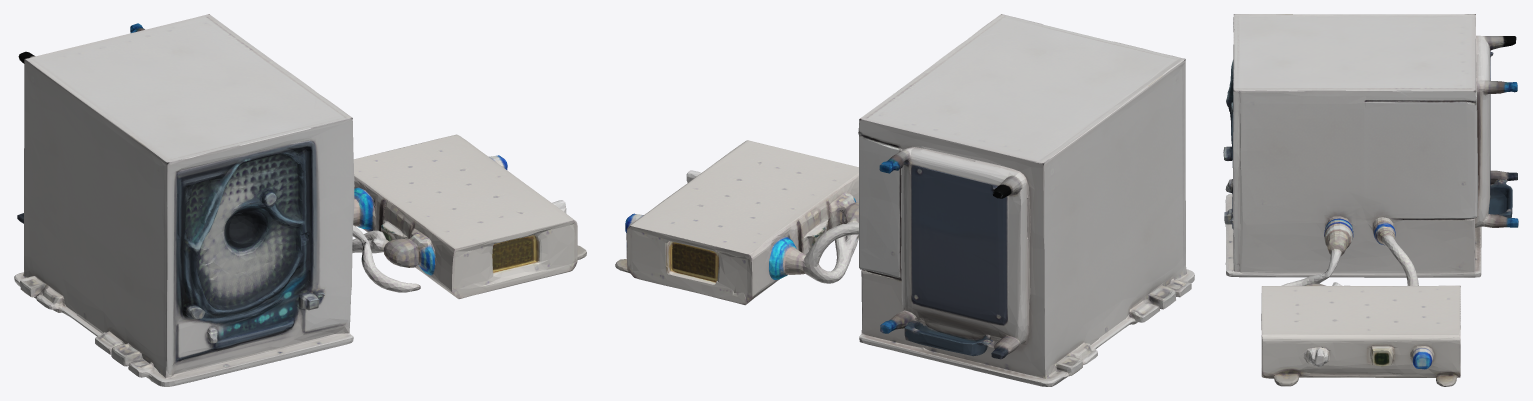
The model's file is 3DPrinter.glb.
3 views of the same model, side by side, from view 1: azimuth 30°, elevation 25°; view 2: azimuth 150°, elevation 25°; view 3: azimuth 270°, elevation 25° (orthographic). The views are drawn at different scales.
Visible parts, largest first — view 1: world; view 2: world; view 3: world.
Part boxes in pixels (x1=…): world: x1=14, y1=14, x2=586, y2=386; world: x1=615, y1=14, x2=1194, y2=386; world: x1=1223, y1=14, x2=1518, y2=386.
Size of the model in its own units: 0.9982 by 0.4611 by 0.6472.
Materials: 1 (1 with a texture image).
